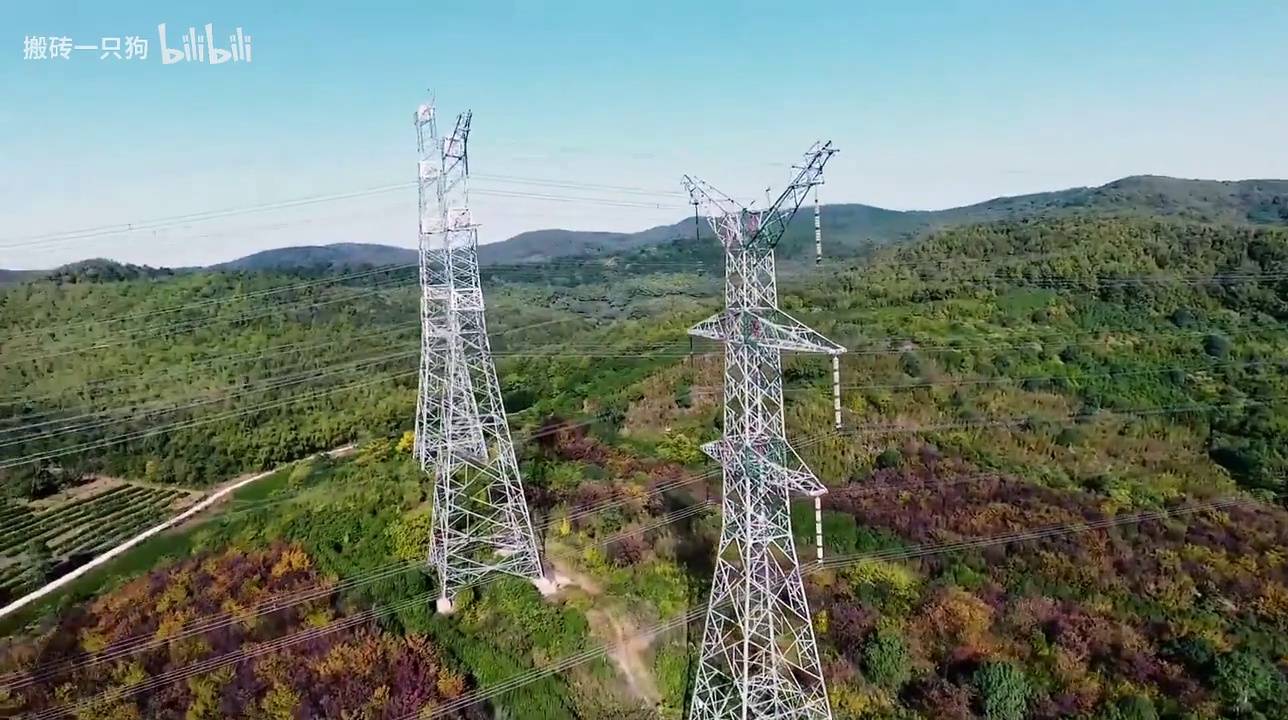tower_body: (673, 138, 863, 720), (417, 103, 576, 608)
tower_foot: (687, 594, 840, 720), (424, 500, 562, 602)
tower_head: (679, 146, 847, 258)
